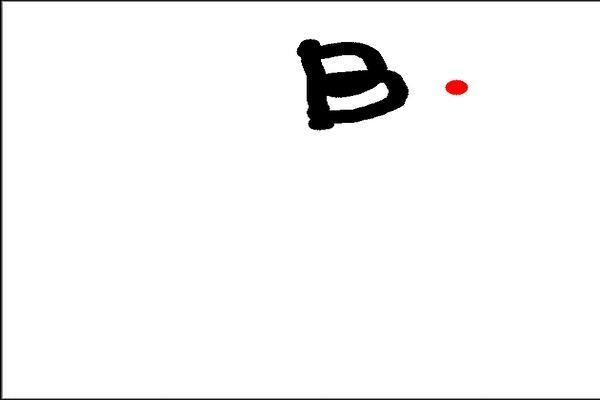B: (288, 26, 420, 136)
